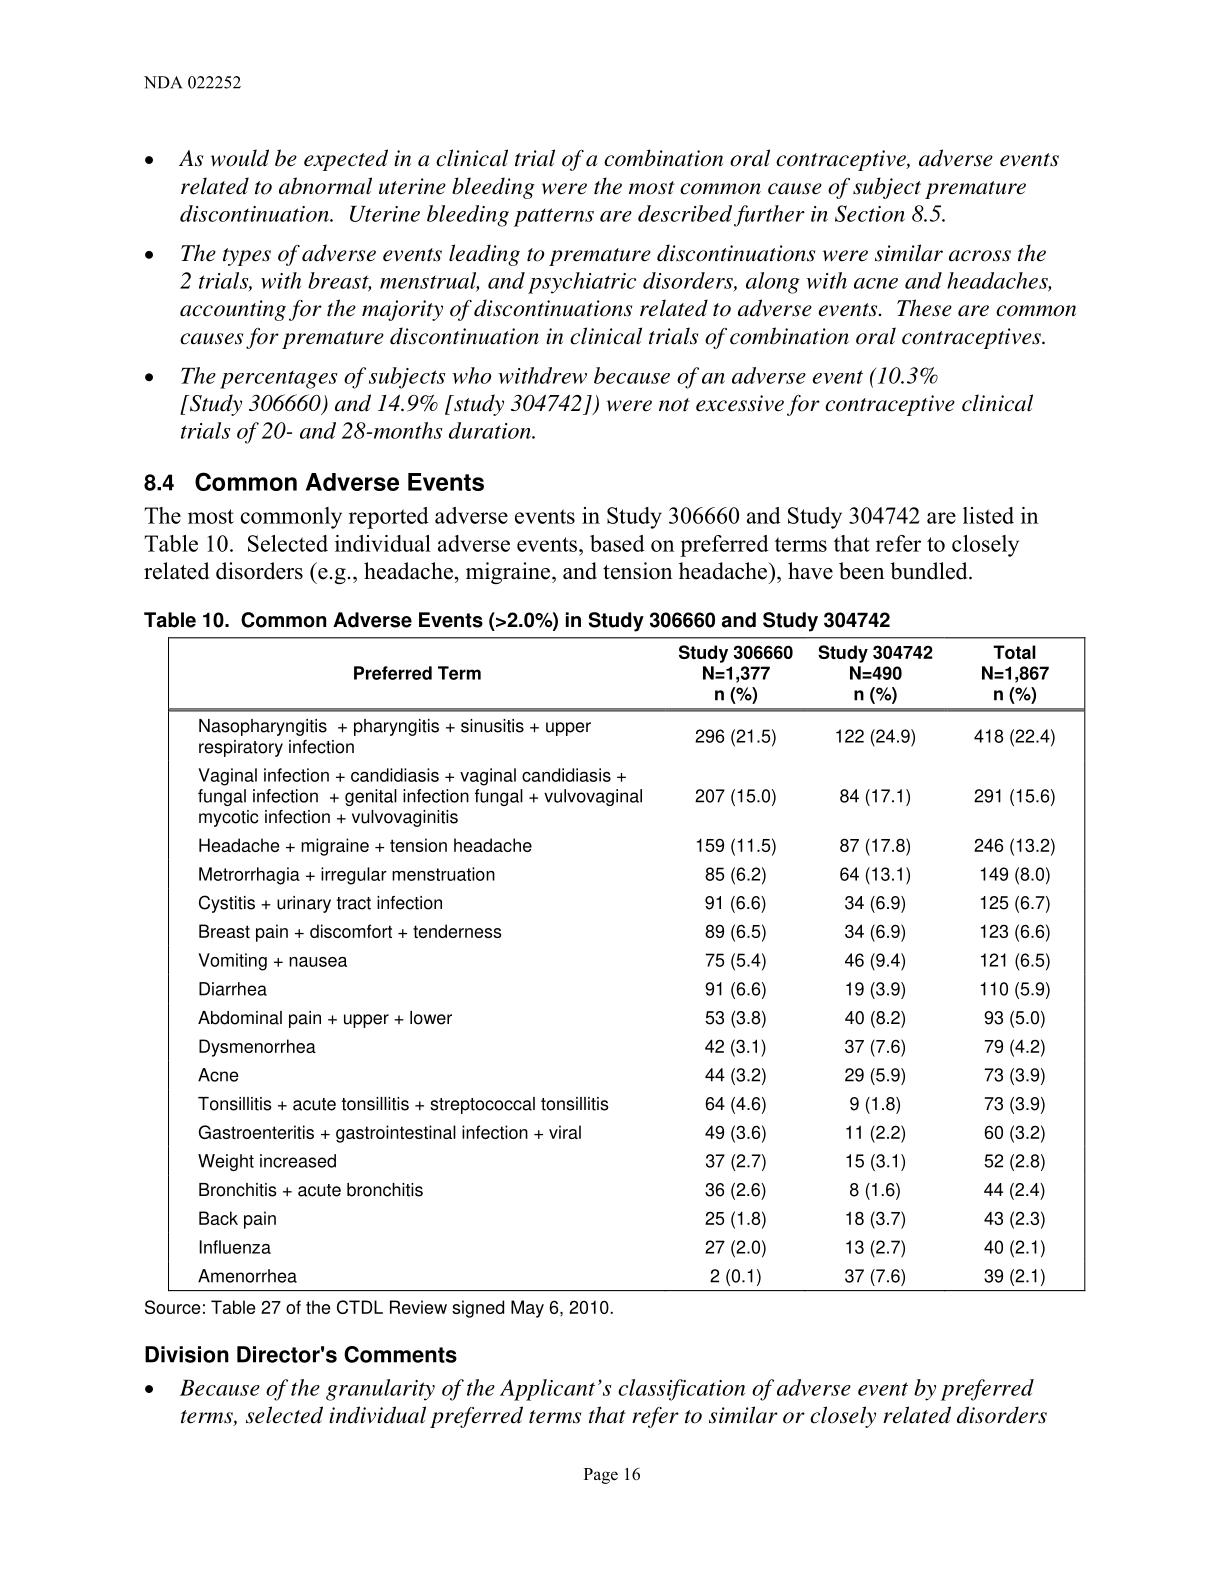partial_lined: (167, 636, 1086, 1292)
